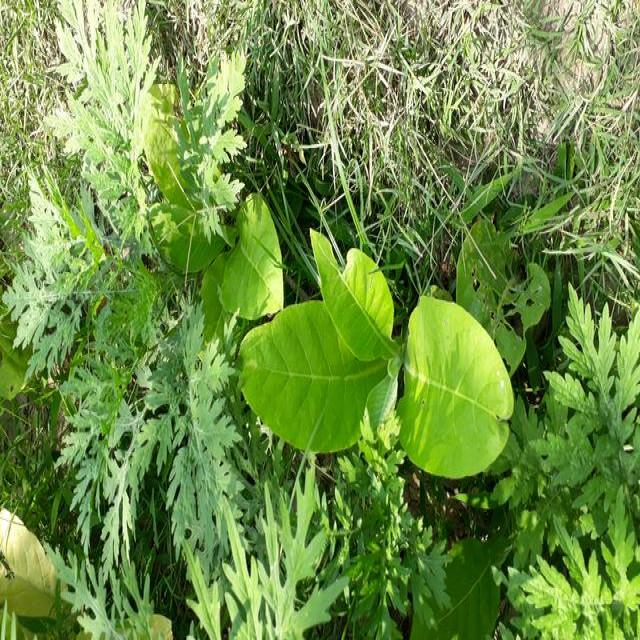crop: (242, 249, 520, 458)
